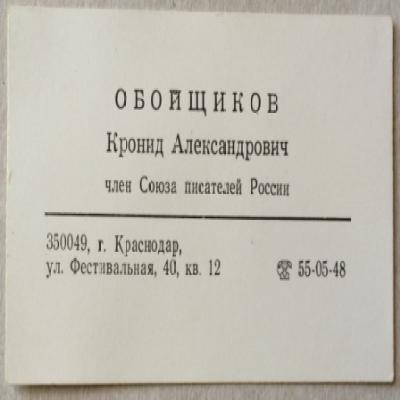document: (7, 12, 393, 384)
